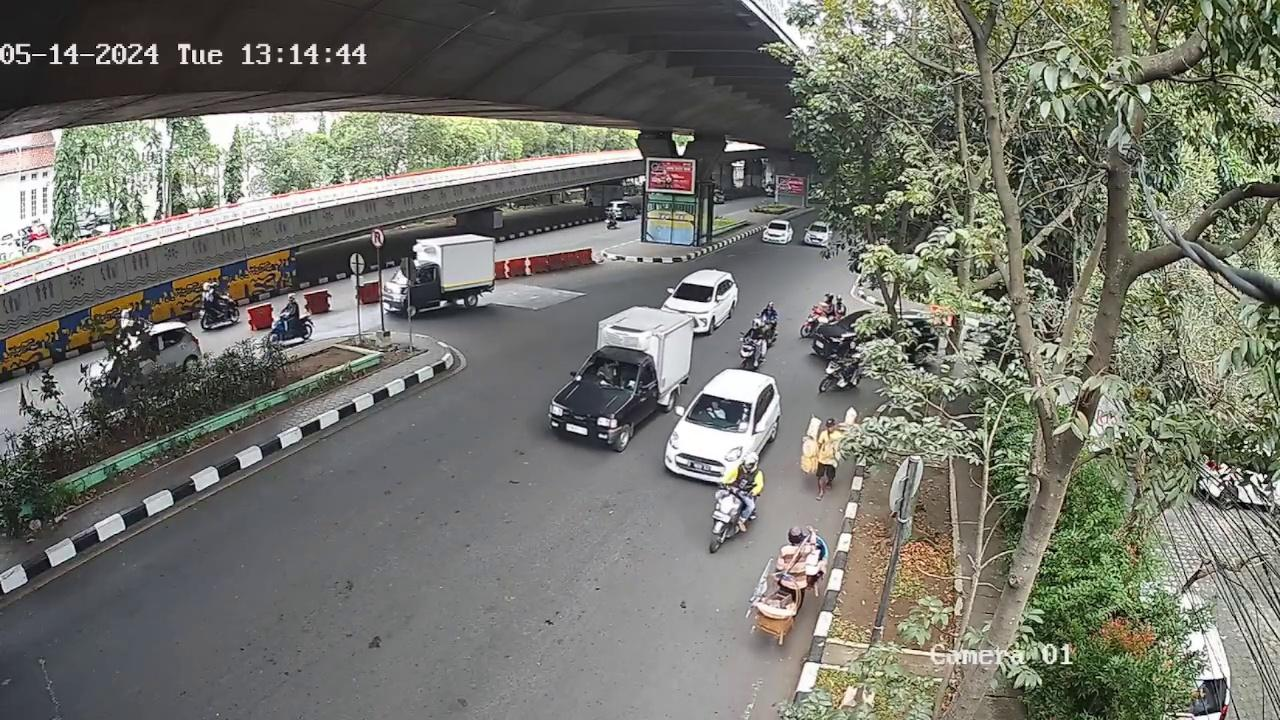pakai: (706, 399, 725, 421)
windshield: (689, 391, 752, 438), (575, 356, 640, 391)
